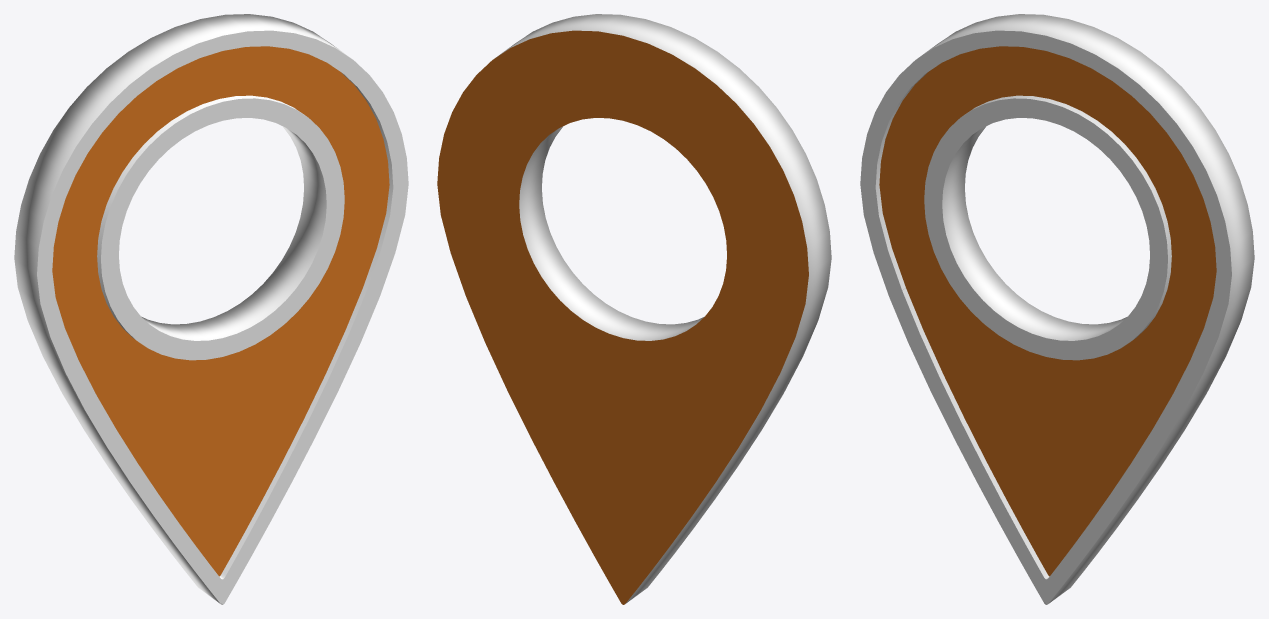
File: marker.gltf
The picture shows the model from 3 angles, left to right: view 1: azimuth 30°, elevation 25°; view 2: azimuth 150°, elevation 25°; view 3: azimuth 330°, elevation 25°; orthographic projection.
Parts seen in each view (by area): view 1: Path; view 2: Path; view 3: Path.
Part boxes in pixels (x1,y1,x2,y2): Path: [14, 14, 408, 604]; Path: [437, 14, 831, 604]; Path: [860, 14, 1254, 604].
Bounding box in the file's own units: 2.27 × 3.32 × 0.24.
Materials: 1 (1 with a texture image).
